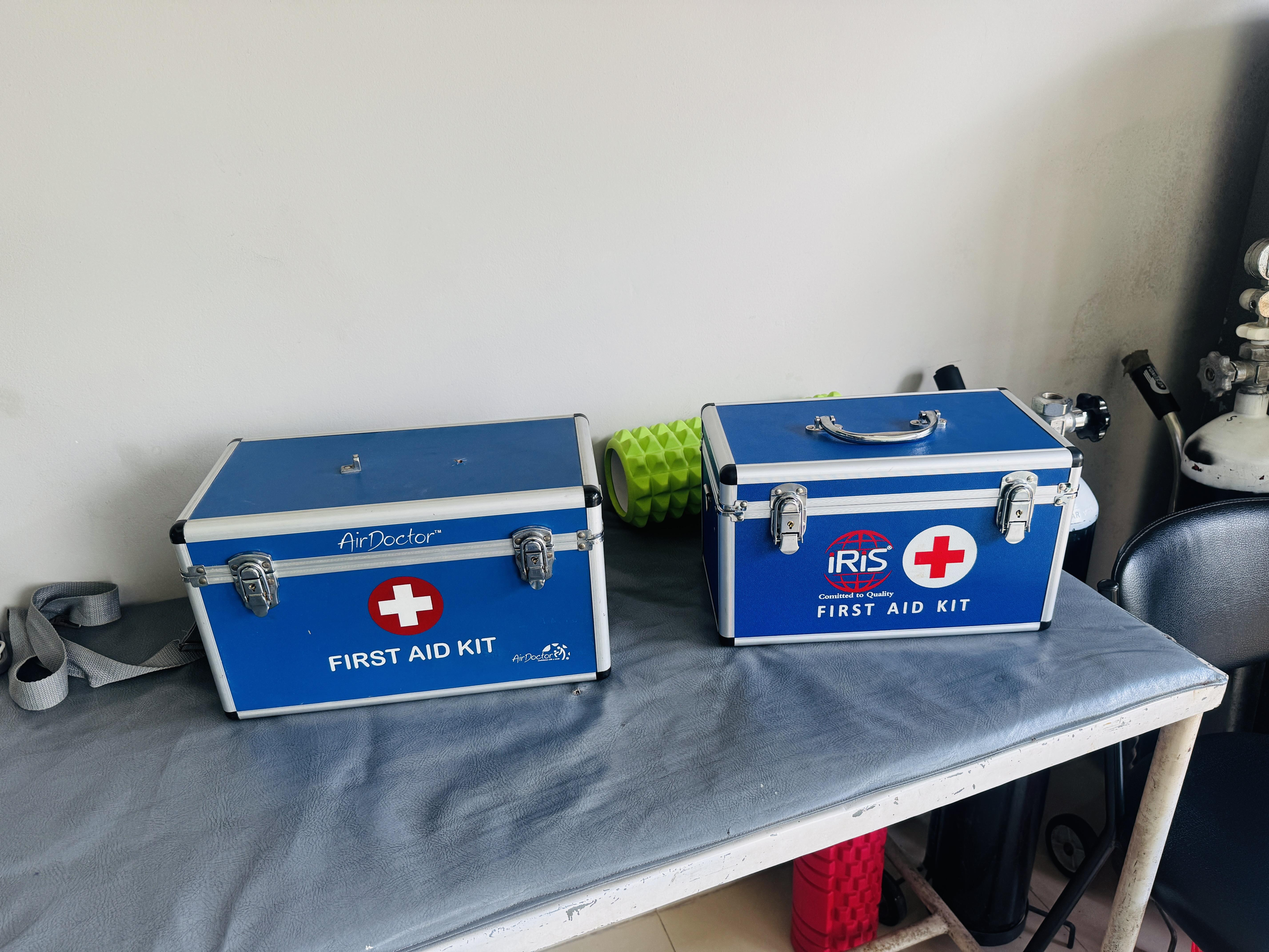FirstAidBox: (170, 407, 628, 736), (683, 380, 1091, 685)
